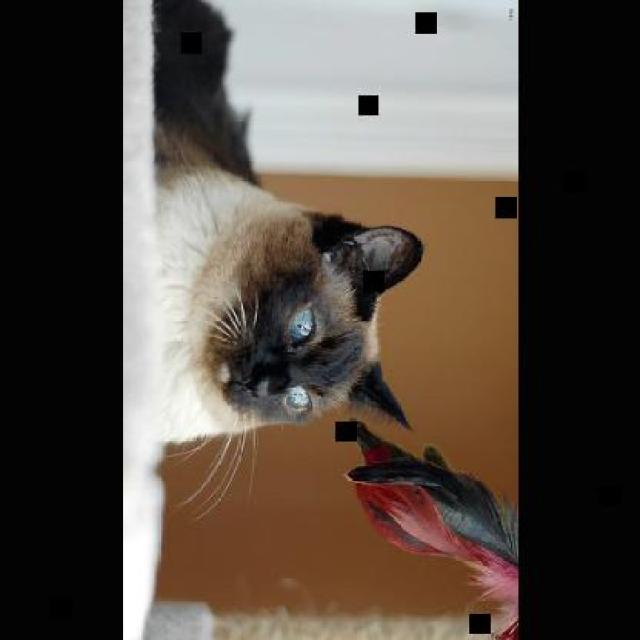unauthorized: (124, 0, 424, 638)
